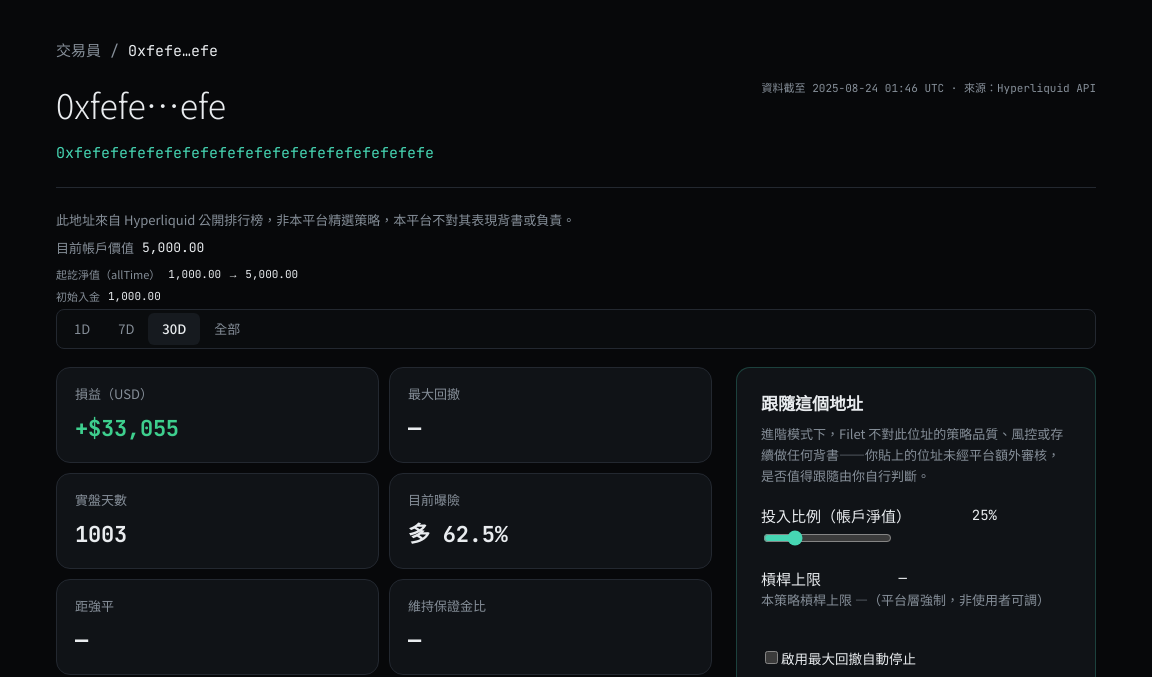
Test: TraderDetailPage › R4-11：投入比例／回撤 slider 與策略頁同款，未連錢包仍可互動
expect the heading "0xfefe…efe" is shown: met, box [56,79,226,132]
Set the slider labelled "投入比例（帳戶淨值）" to "60" at (836, 538), box [763,530,892,546]
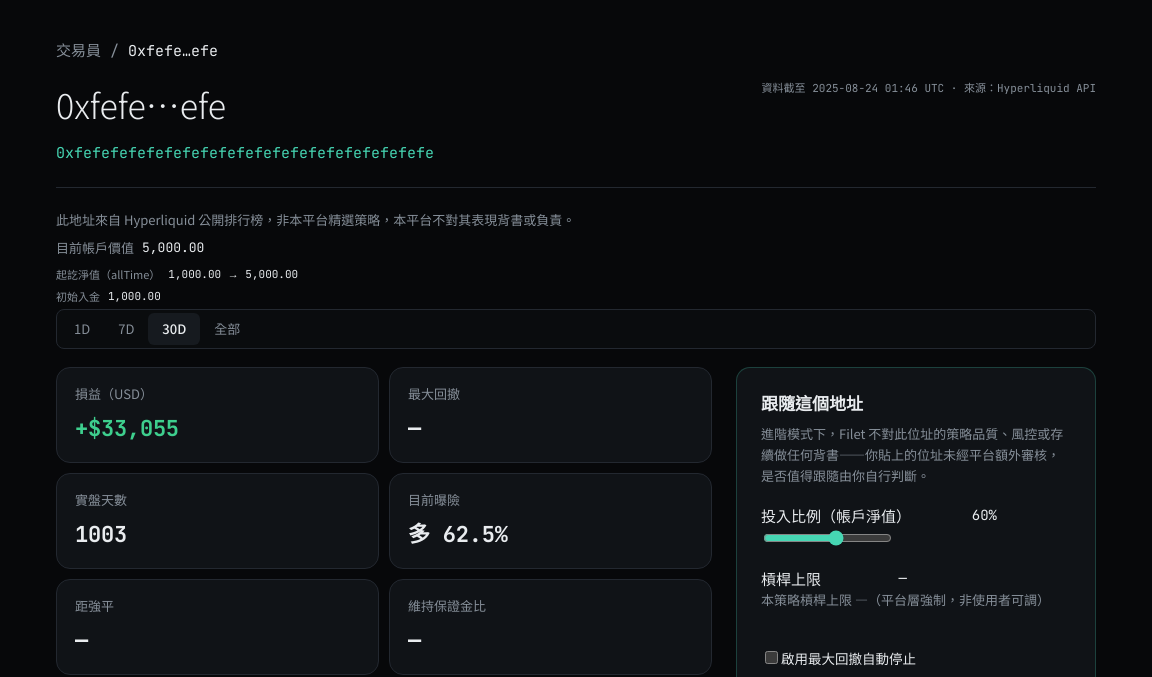
expect the checkbox labelled "啟用最大回撤自動停止" is shown: met, box [765,651,778,664]
expect the text "60%" is shown: met, box [972,506,997,524]
